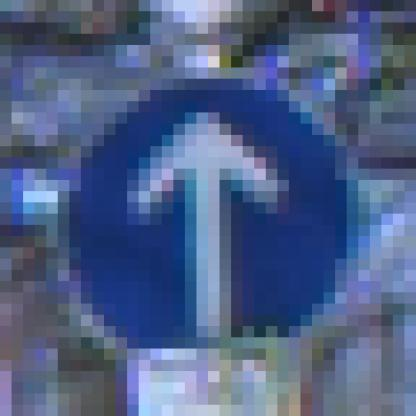AheadOnly: (59, 68, 359, 361)
